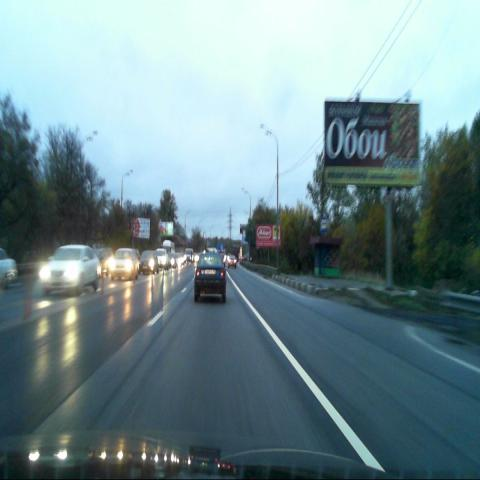5_16: (320, 217, 327, 234)
